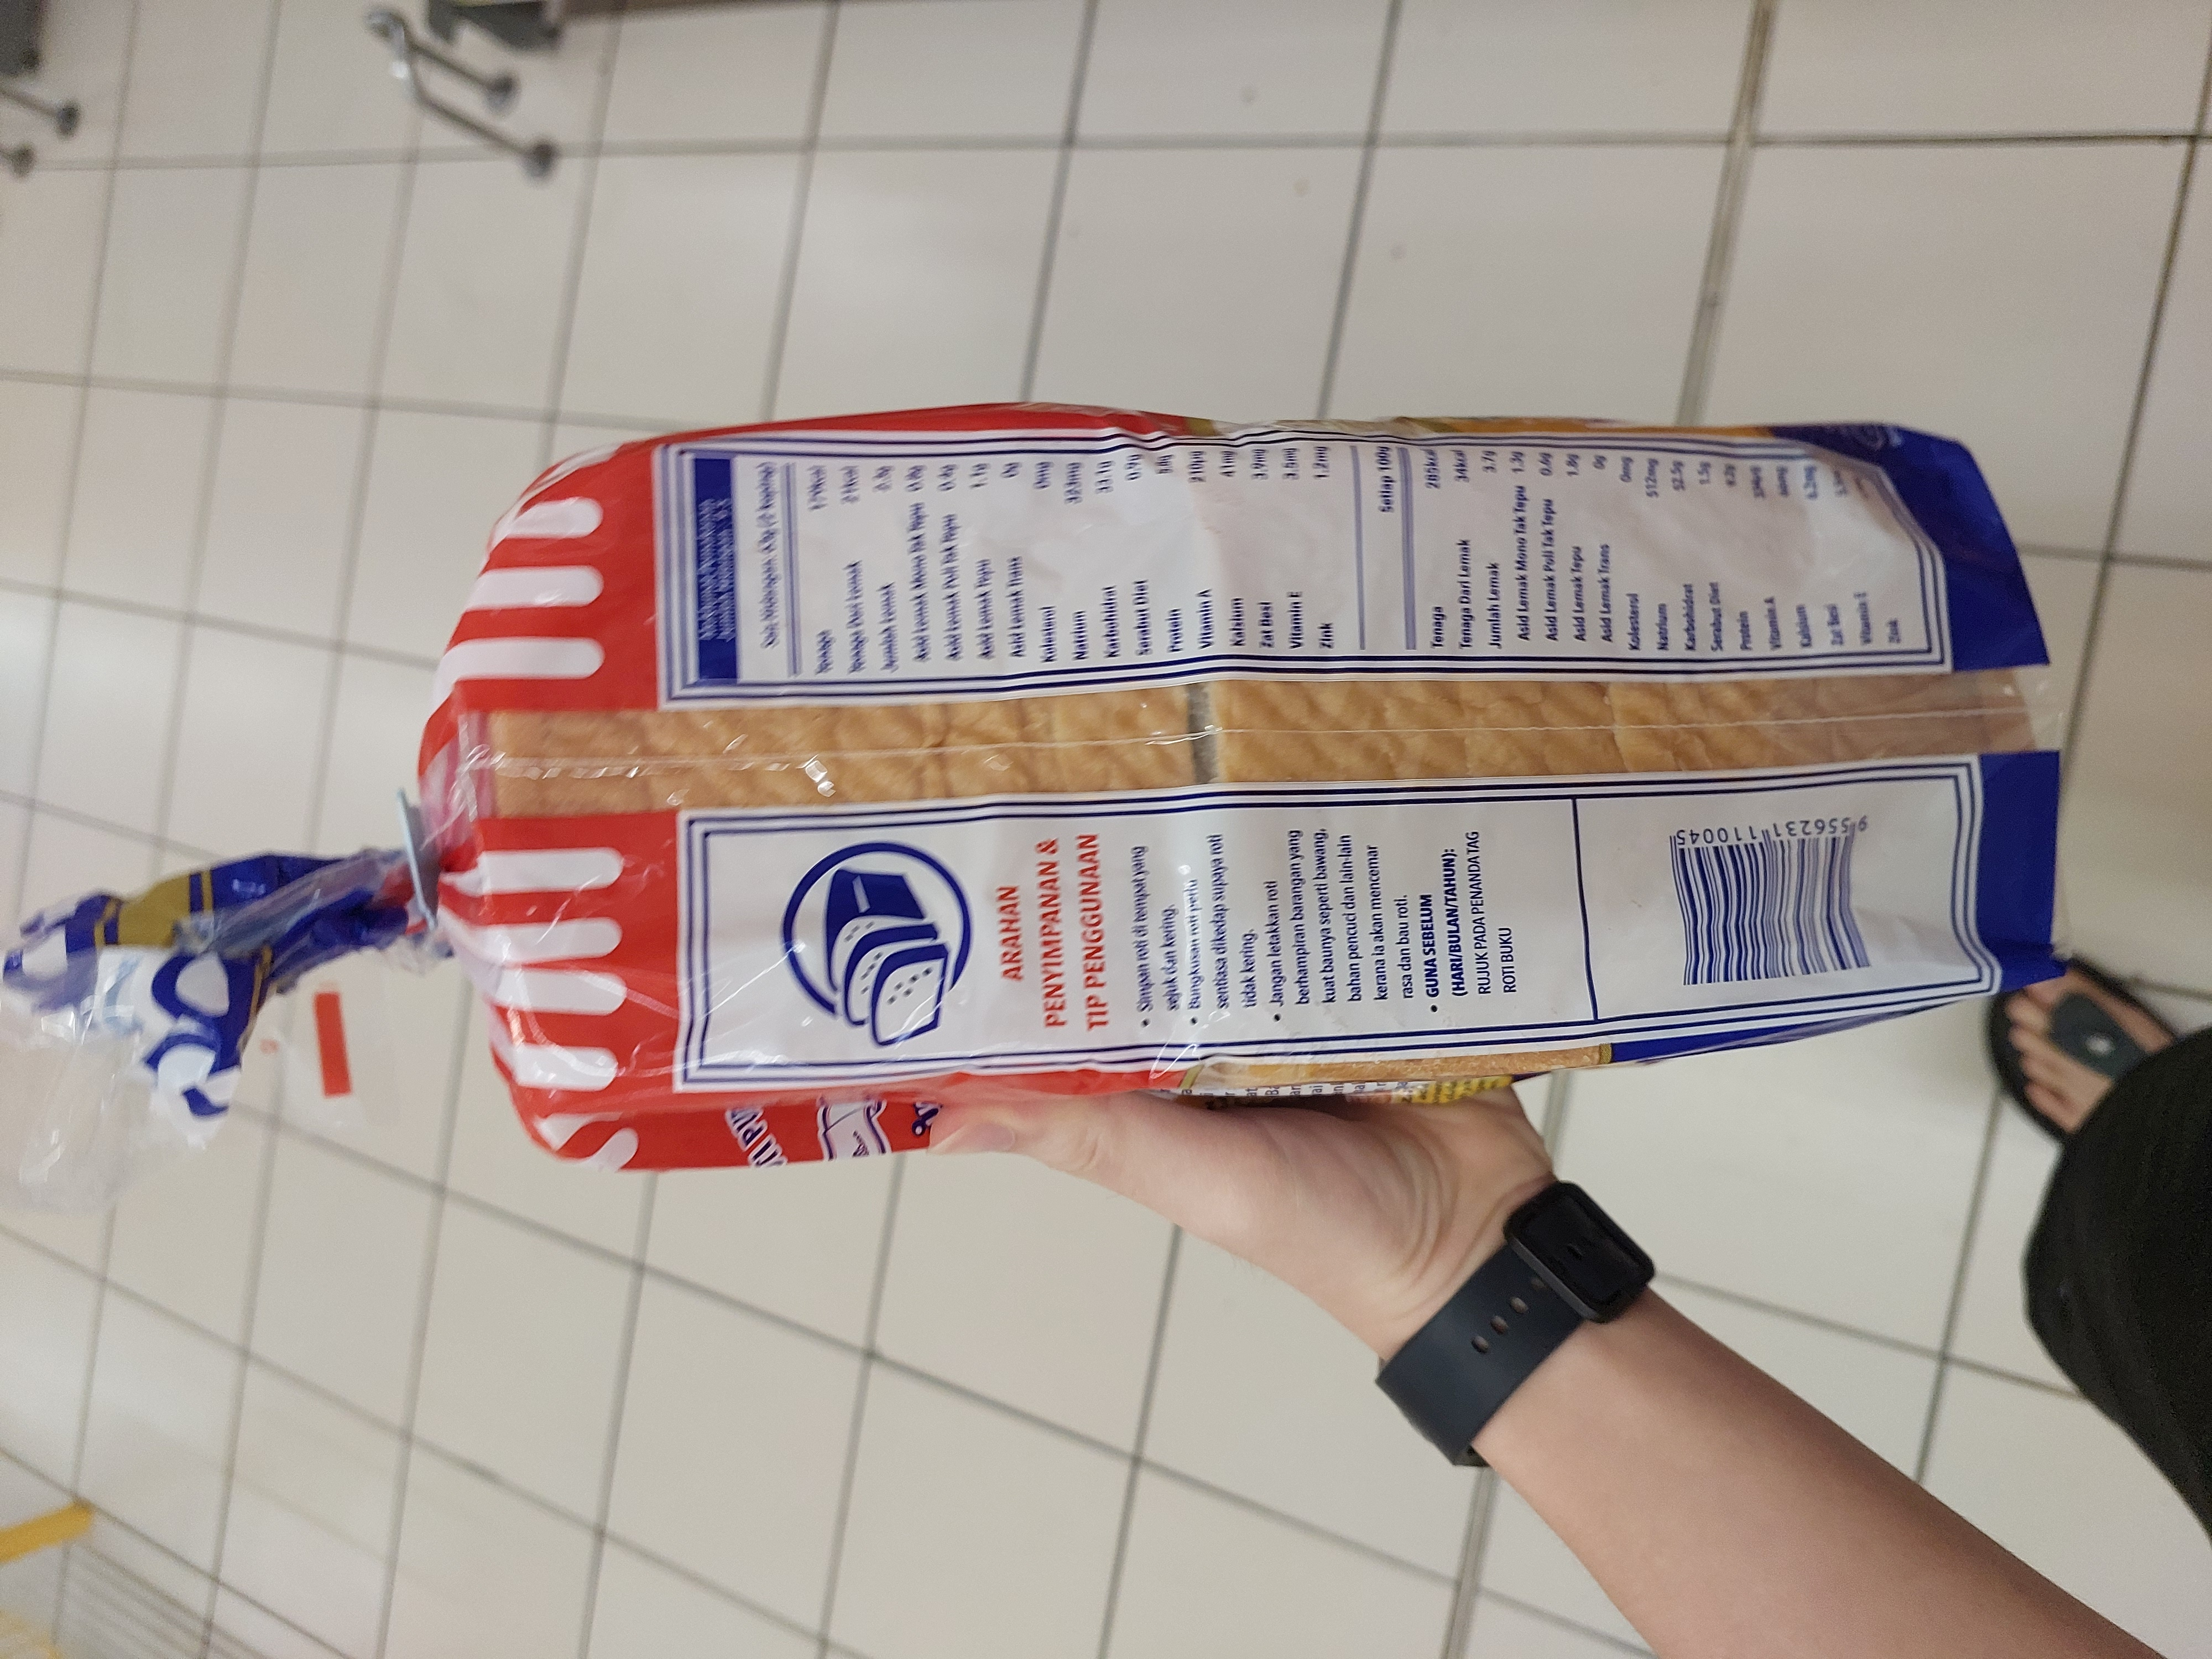bread: (45, 403, 2062, 1176)
